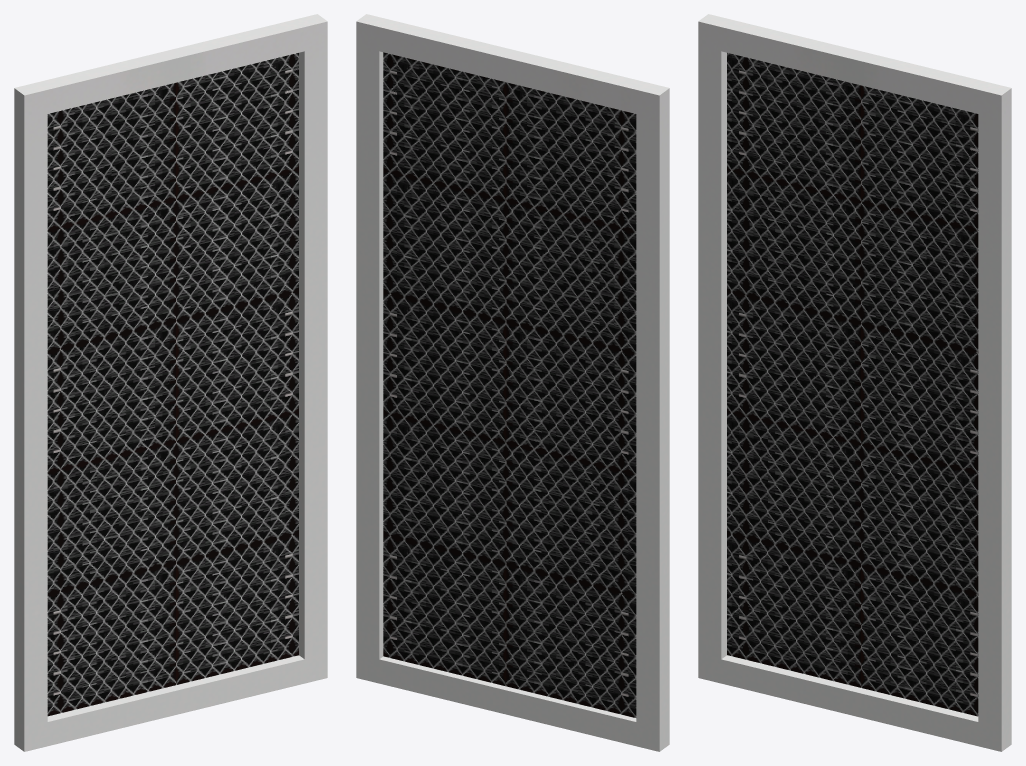
Rendered from CageFight_Door.fbx.
3 views of the same model, side by side, from view 1: azimuth 30°, elevation 25°; view 2: azimuth 150°, elevation 25°; view 3: azimuth 330°, elevation 25° (orthographic).
Visible parts, largest first — view 1: konrad_cageFight_metal_fence_doors_model; view 2: konrad_cageFight_metal_fence_doors_model; view 3: konrad_cageFight_metal_fence_doors_model.
Boxes of the visible parts, x1,y1,x2,y2 form: konrad_cageFight_metal_fence_doors_model: (14, 14, 327, 751); konrad_cageFight_metal_fence_doors_model: (356, 14, 669, 751); konrad_cageFight_metal_fence_doors_model: (698, 14, 1011, 751).
Bounding box in the file's own units: 181 × 374 × 10.57.
2 materials, 2 textured.
